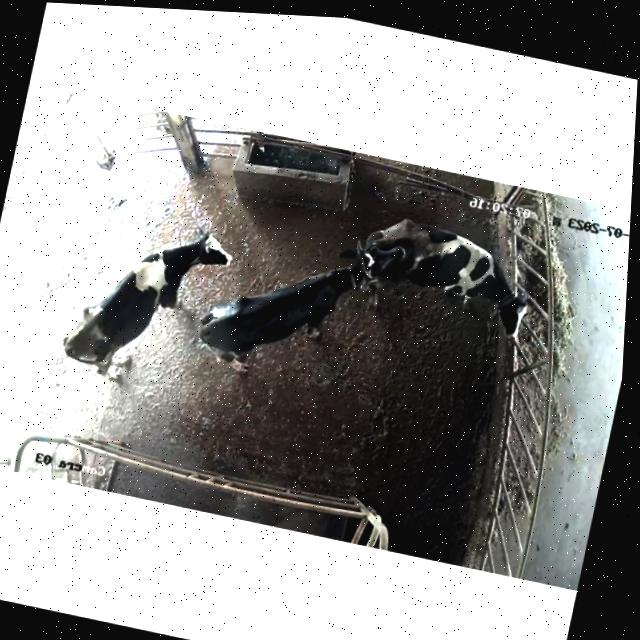propping: (333, 212, 449, 303)
